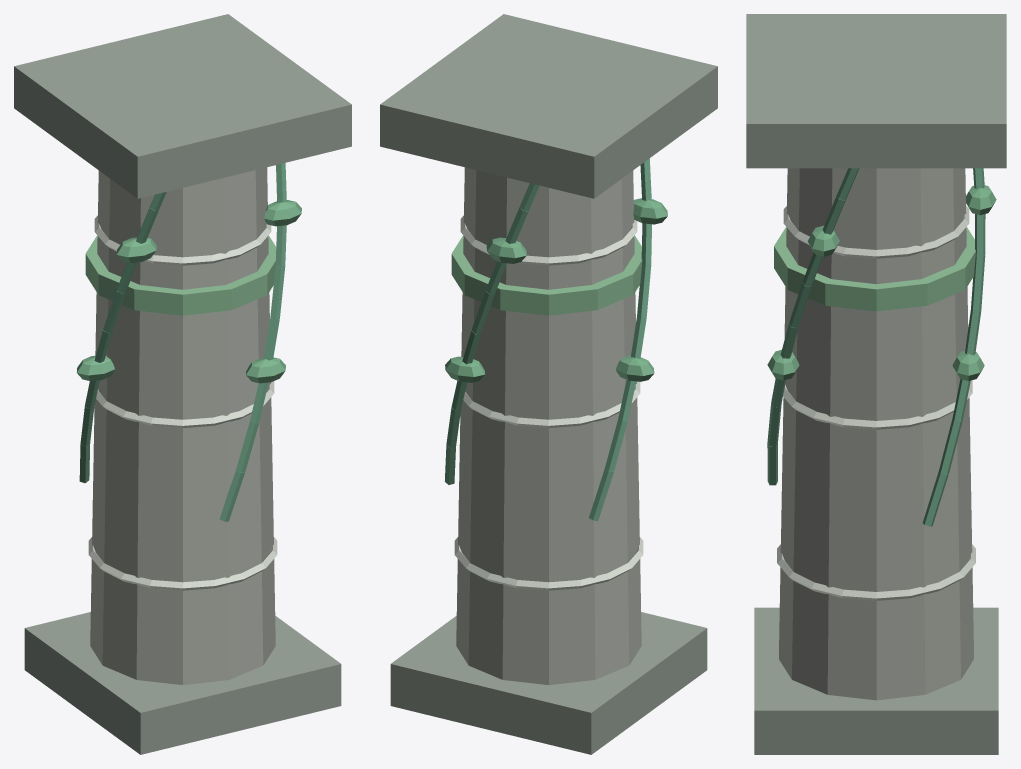
Rendered from columna_entera.glb.
3 views of the same model, side by side, from view 1: azimuth 30°, elevation 25°; view 2: azimuth 150°, elevation 25°; view 3: azimuth 270°, elevation 25° (orthographic). The views are drawn at different scales.
Parts seen in each view (by area): view 1: columna_entera; view 2: columna_entera; view 3: columna_entera.
Boxes of the visible parts, x1,y1,x2,y2 form: columna_entera: (14, 14, 351, 754); columna_entera: (380, 14, 717, 754); columna_entera: (746, 14, 1006, 754).
Bounding box in the file's own units: 1.6 × 4.3 × 1.6.
